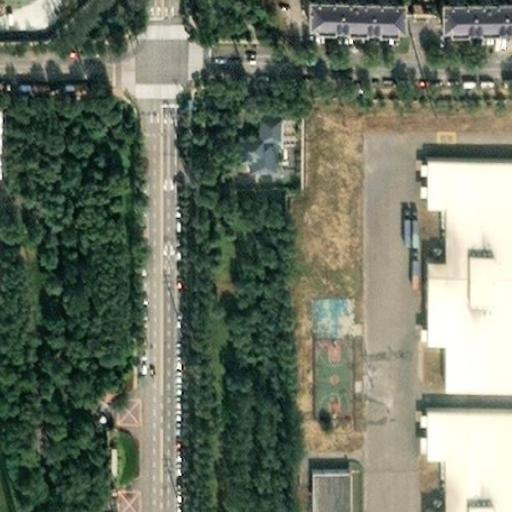building: (412, 146, 512, 377), (420, 407, 512, 512), (241, 114, 285, 174), (313, 469, 357, 512), (18, 74, 94, 96), (0, 98, 12, 180), (424, 0, 512, 9)
